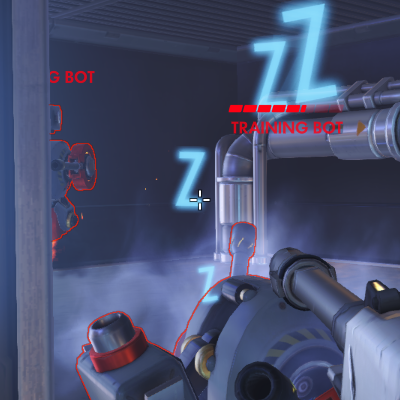hpbar: (228, 104, 344, 113)
